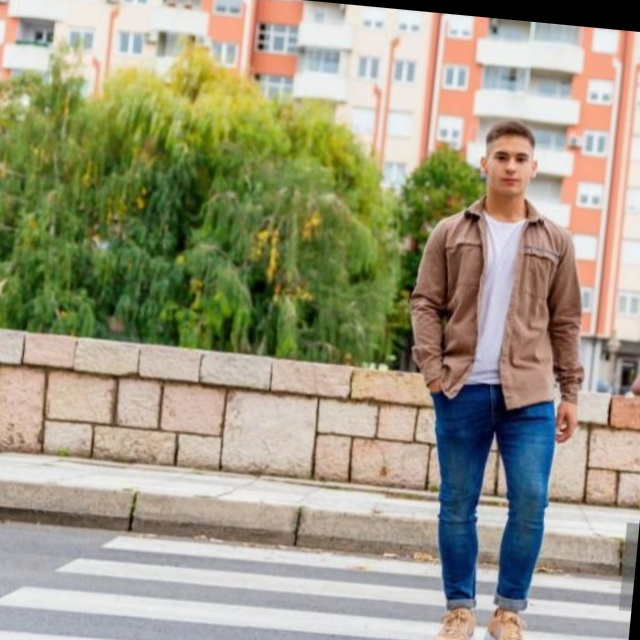Sin_Casco_Mascarrilla: (479, 116, 543, 203)
Sin_Chaleco: (414, 197, 575, 412)
